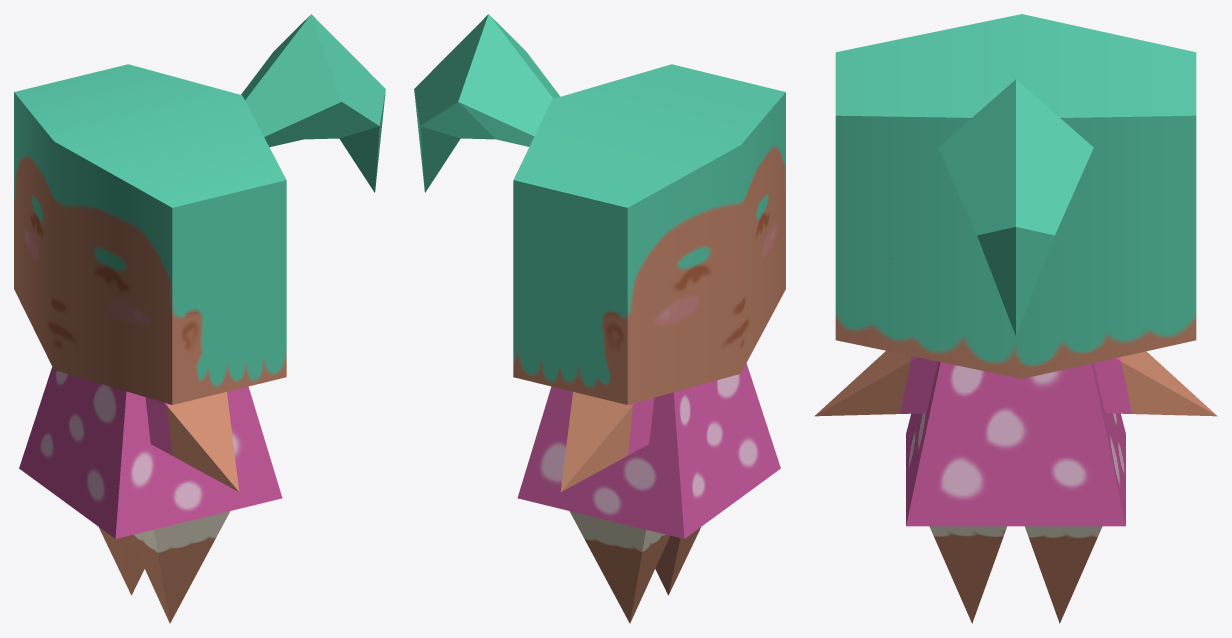
File: lucy.fbx
3 views of the same model, side by side, from view 1: azimuth 30°, elevation 25°; view 2: azimuth 150°, elevation 25°; view 3: azimuth 270°, elevation 25° (orthographic). The views are drawn at different scales.
Visible parts, largest first — view 1: pCube3; view 2: pCube3; view 3: pCube3.
Boxes of the visible parts, <box> form: pCube3: <box>14,14,385,623</box>; pCube3: <box>414,14,785,623</box>; pCube3: <box>814,14,1217,623</box>.
Size of the model in its own units: 1.75 by 2.82 by 1.63.
